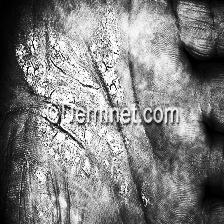Non-Cancerous Skin Condition: (40, 118, 121, 179), (89, 11, 125, 102), (51, 36, 87, 98), (15, 38, 48, 97)
